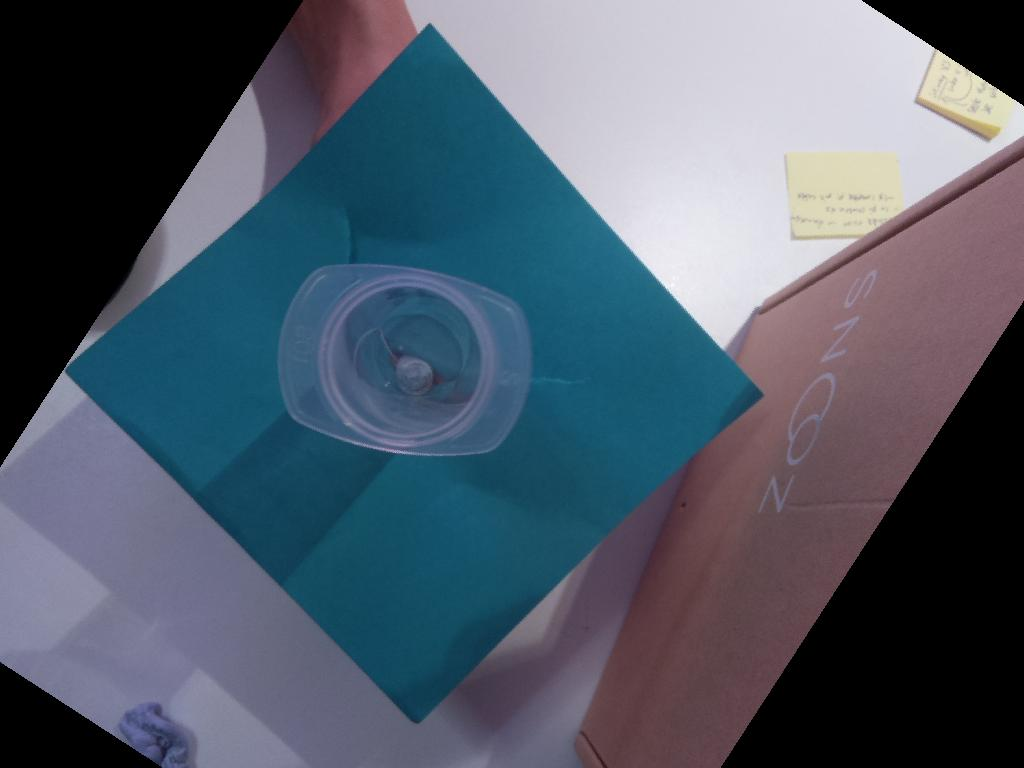clean: (274, 262, 533, 460)
